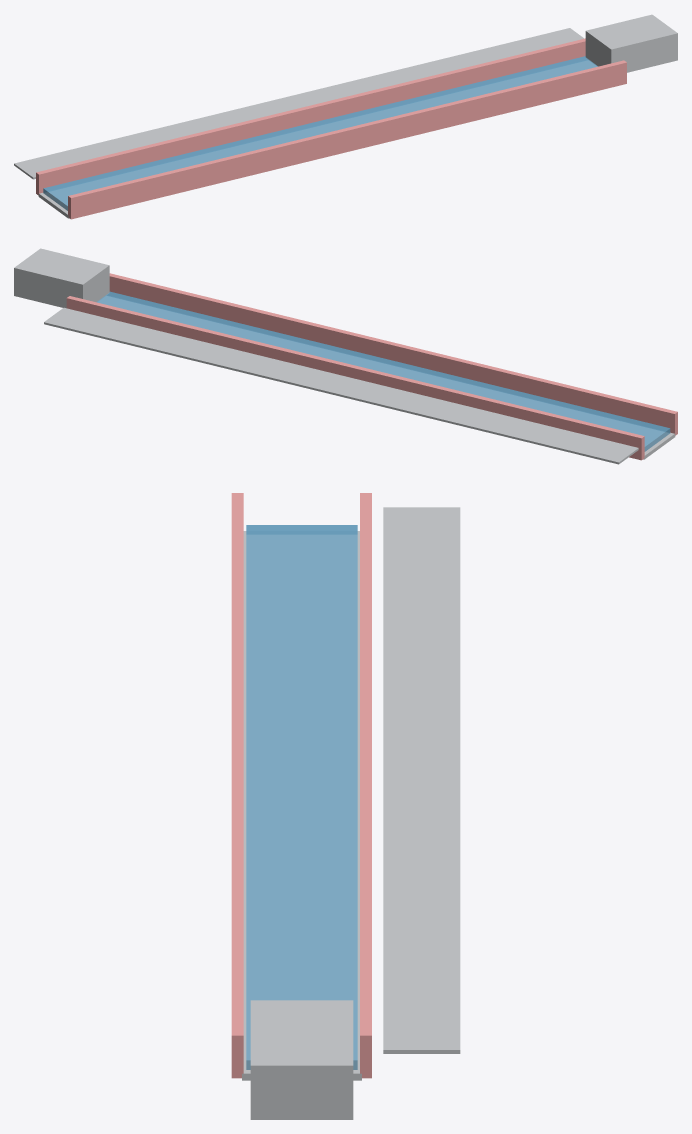
The model's file is airport-works.glb.
3 views of the same model, one above another, from view 1: azimuth 30°, elevation 25°; view 2: azimuth 150°, elevation 25°; view 3: azimuth 270°, elevation 25° (orthographic). The views are drawn at different scales.
Parts seen in each view (by area): view 1: wall-s, wall-n, track, water, channel-bed, headwall; view 2: track, wall-s, water, wall-n, channel-bed, headwall; view 3: channel-bed, water, track, headwall, wall-s, wall-n.
Part boxes in pixels (box(x1,y1,x2,y2)): wall-s: box(68, 60, 626, 219); wall-n: box(36, 38, 585, 195); track: box(14, 28, 583, 179); water: box(43, 56, 597, 210); channel-bed: box(38, 60, 596, 218); headwall: box(585, 14, 677, 72); track: box(44, 307, 638, 464); wall-s: box(109, 273, 677, 435); water: box(96, 291, 670, 451); wall-n: box(66, 296, 644, 460); channel-bed: box(98, 296, 675, 459); headwall: box(14, 248, 109, 308); channel-bed: box(242, 531, 361, 1080); water: box(246, 525, 357, 1069); track: box(383, 507, 460, 1053); headwall: box(250, 1000, 353, 1119); wall-s: box(231, 493, 243, 1078); wall-n: box(360, 493, 371, 1078).
Bounding box in the file's own units: 165 × 8.95 × 26.7.
